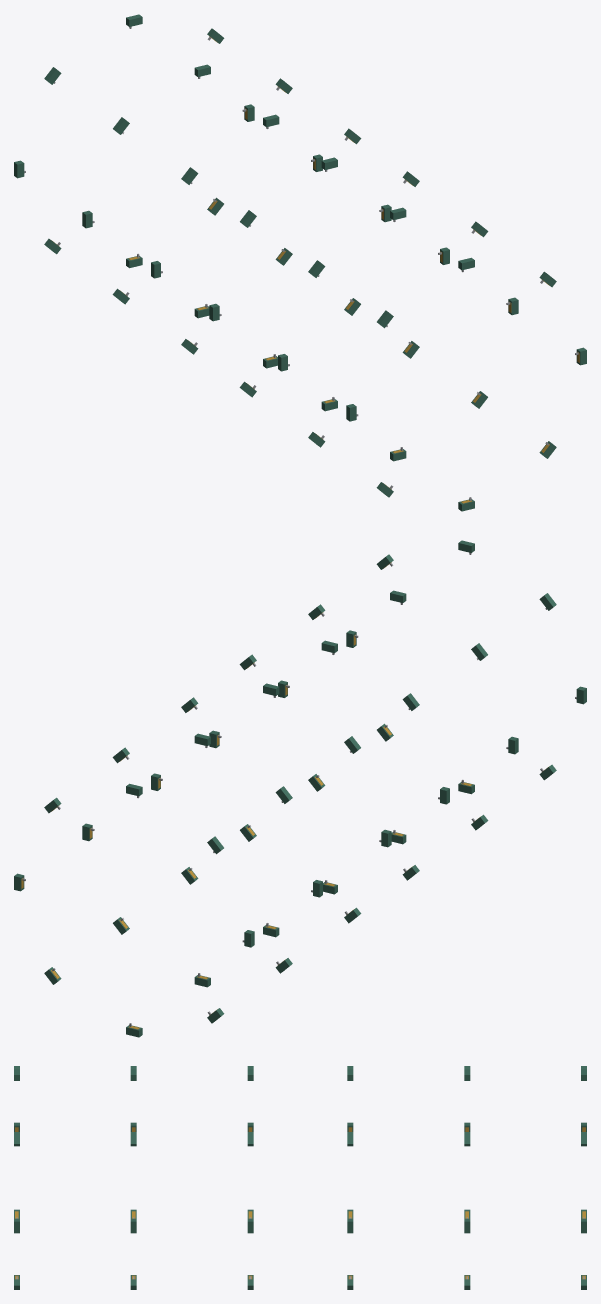
The model's file is tank4200_locks.obj.
3 renders of one model, top to bottom at view 1: azimuth 30°, elevation 25°; view 2: azimuth 150°, elevation 25°; view 3: azimuth 270°, elevation 25°, orthographic. The views are drawn at different scales.
Parts seen in each view (by area): view 1: tank4200_locks; view 2: tank4200_locks; view 3: tank4200_locks.
Boxes of the visible parts, left/top/right/bottom form: tank4200_locks: left=14, top=14, right=586, bottom=511; tank4200_locks: left=14, top=540, right=586, bottom=1037; tank4200_locks: left=14, top=1066, right=586, bottom=1289.
Size of the model in its own units: 12.7 by 12.7 by 31.15.
